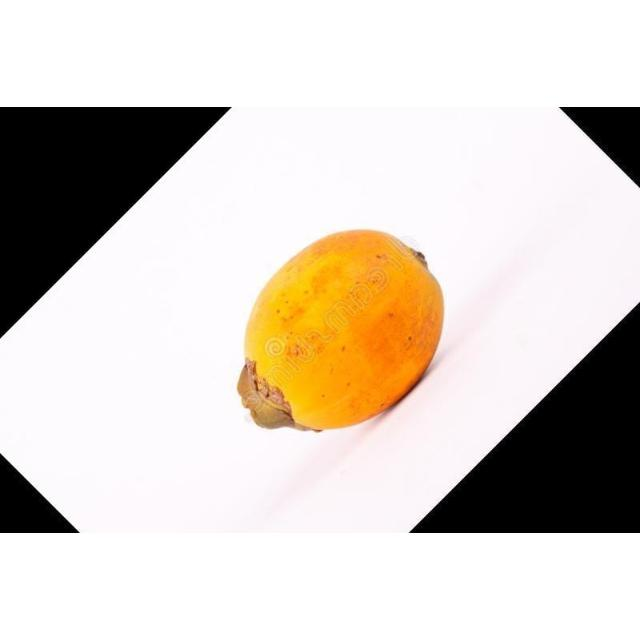good: (235, 230, 446, 431)
